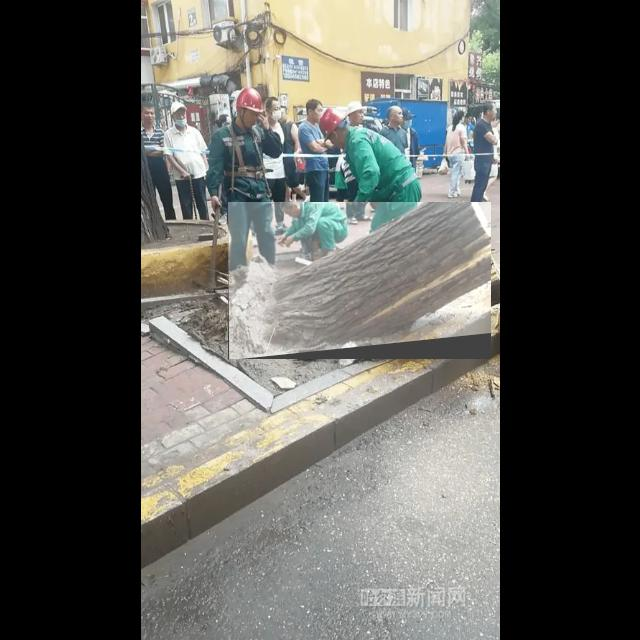Fallen Tree: (228, 202, 492, 360)
